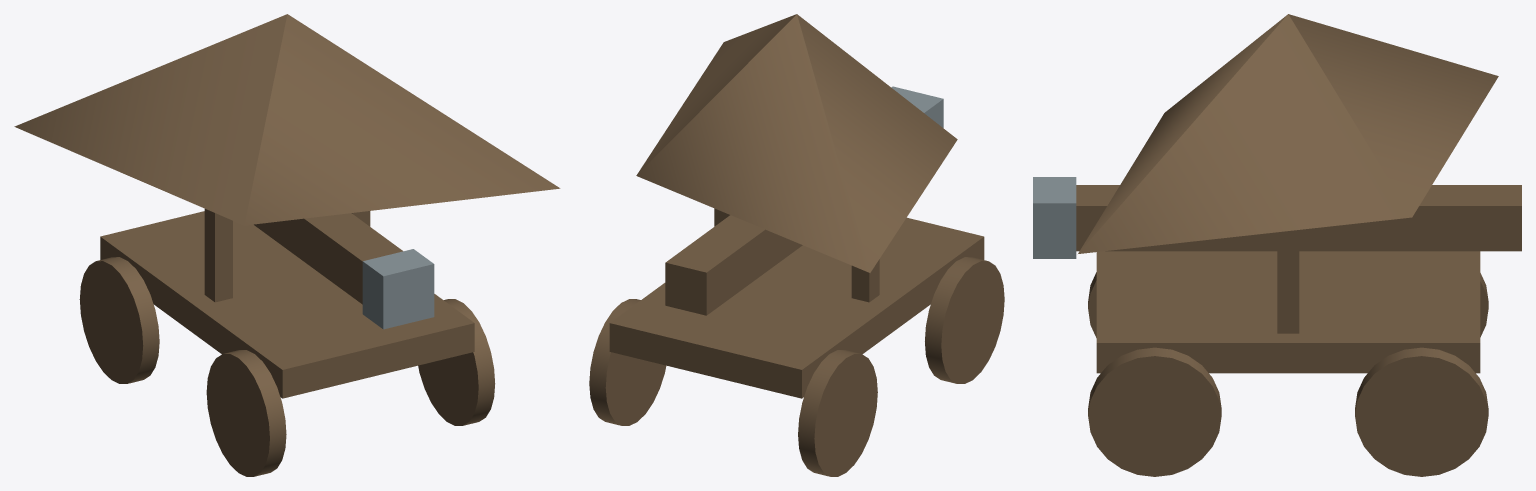
File: ram.glb
3 renders of one model, left to right at view 1: azimuth 30°, elevation 25°; view 2: azimuth 150°, elevation 25°; view 3: azimuth 270°, elevation 25°, orthographic. The views are drawn at different scales.
Visible parts, largest first — view 1: Vehicle, beam; view 2: Vehicle, beam; view 3: Vehicle, beam.
Part boxes in pixels (x1=…): Vehicle: x1=14, y1=14, x2=560, y2=476; beam: x1=254, y1=213, x2=434, y2=329; Vehicle: x1=589, y1=14, x2=1004, y2=476; beam: x1=665, y1=86, x2=943, y2=315; Vehicle: x1=1078, y1=14, x2=1498, y2=476; beam: x1=1033, y1=177, x2=1521, y2=258.
Bounding box in the file's own units: 2.52 × 2.68 × 2.93.
